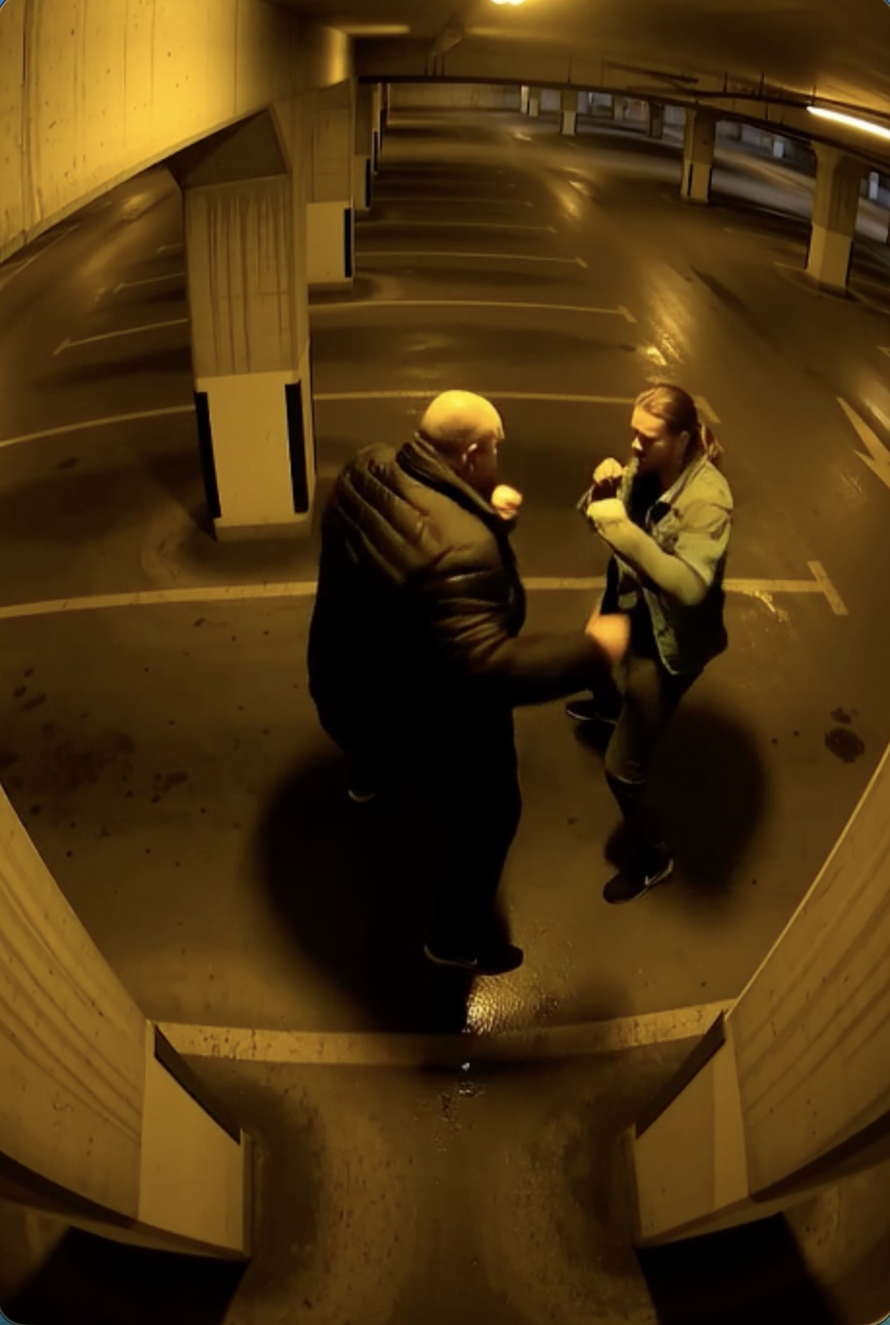Assault: (566, 384, 734, 908)
Fighting: (304, 388, 625, 979)
